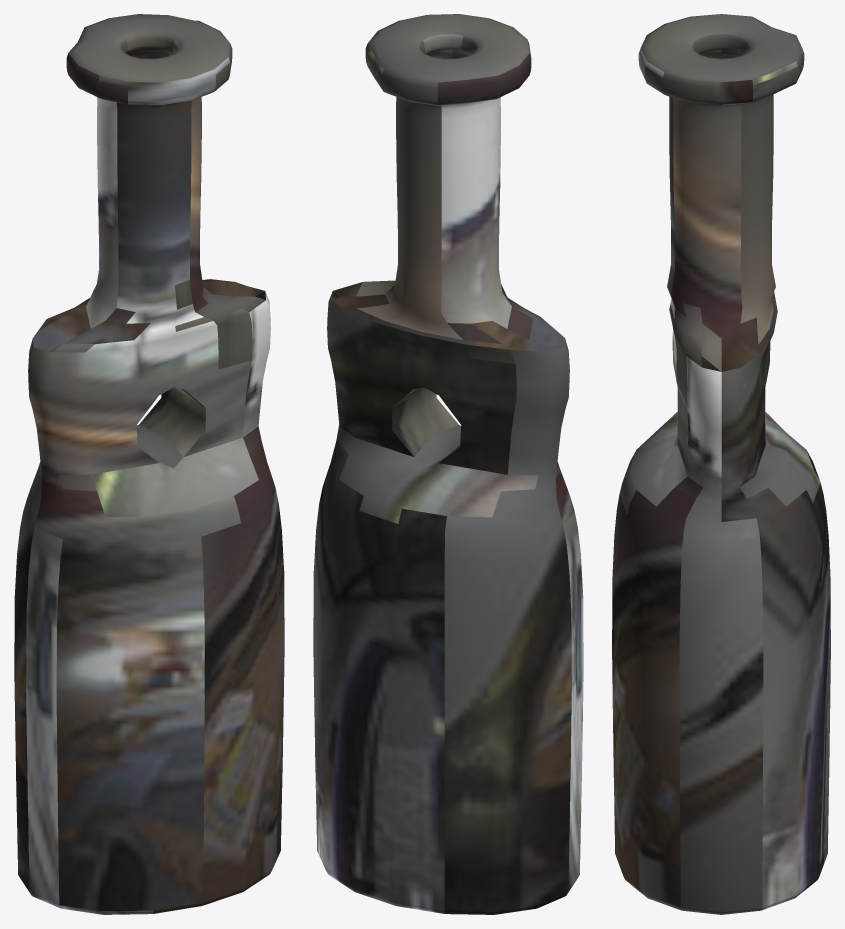
Rendered from Bulp_polymsh1.obj.
3 renders of one model, left to right at view 1: azimuth 30°, elevation 25°; view 2: azimuth 150°, elevation 25°; view 3: azimuth 270°, elevation 25°, orthographic.
Visible parts, largest first — view 1: polymsh1; view 2: polymsh1; view 3: polymsh1.
Boxes of the visible parts, x1,y1,x2,y2 form: polymsh1: (14,14,284,914); polymsh1: (313,14,583,914); polymsh1: (612,14,830,914).
Bounding box in the file's own units: 0.995 × 3.19 × 0.7728.
